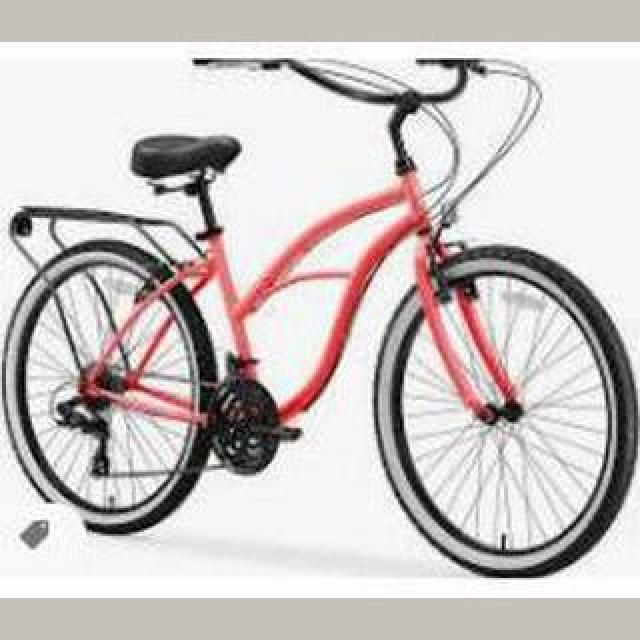Person: (6, 57, 640, 575)
